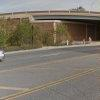Bridge: (4, 4, 99, 32)
